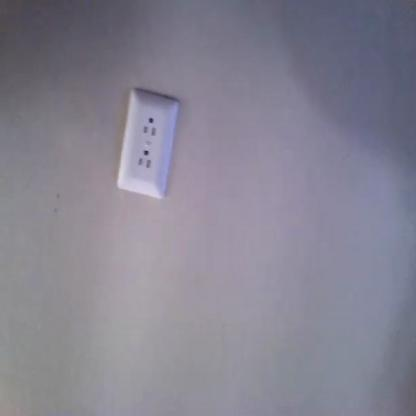OUTLET: (117, 88, 183, 199)
